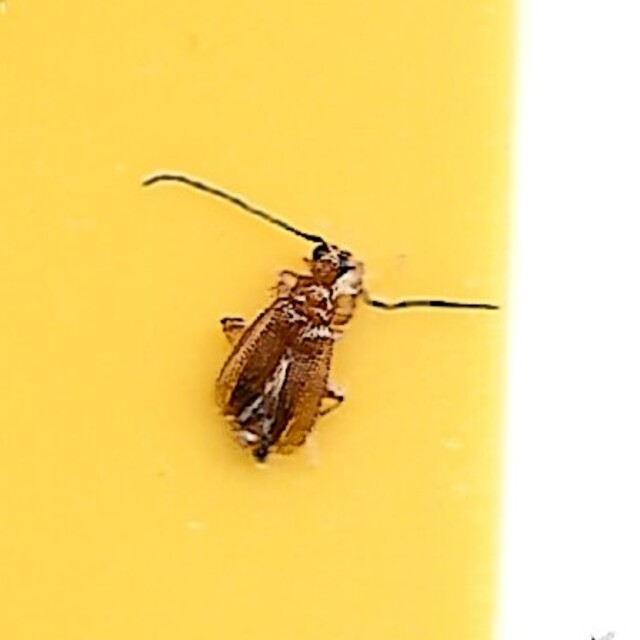Coleoptera: (143, 173, 497, 467)
